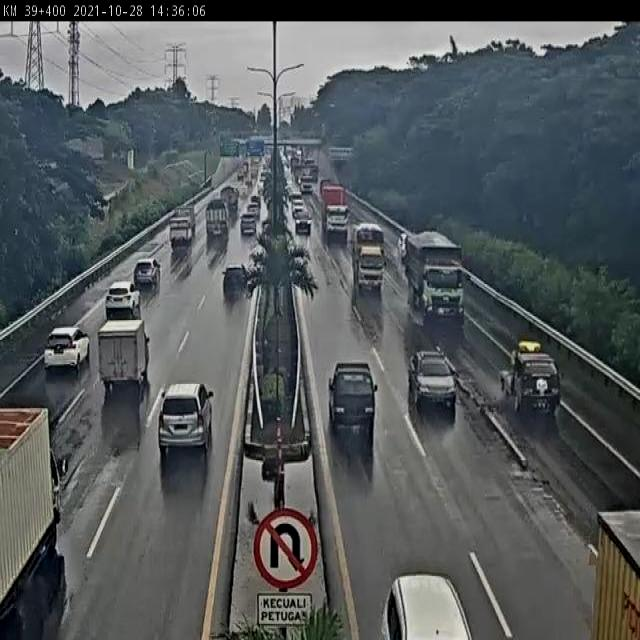Car: (380, 574, 472, 640), (159, 383, 213, 456), (408, 349, 456, 410), (44, 327, 90, 371), (104, 280, 141, 316), (222, 264, 250, 296), (133, 258, 161, 286), (295, 210, 312, 234), (240, 214, 257, 234), (247, 203, 260, 216)
Truck: (0, 404, 69, 640), (407, 227, 468, 325), (499, 339, 562, 415), (98, 318, 150, 393), (329, 360, 378, 436), (352, 222, 386, 292), (320, 184, 351, 240), (205, 198, 229, 240), (168, 218, 192, 250), (175, 205, 197, 232), (221, 185, 240, 212)
